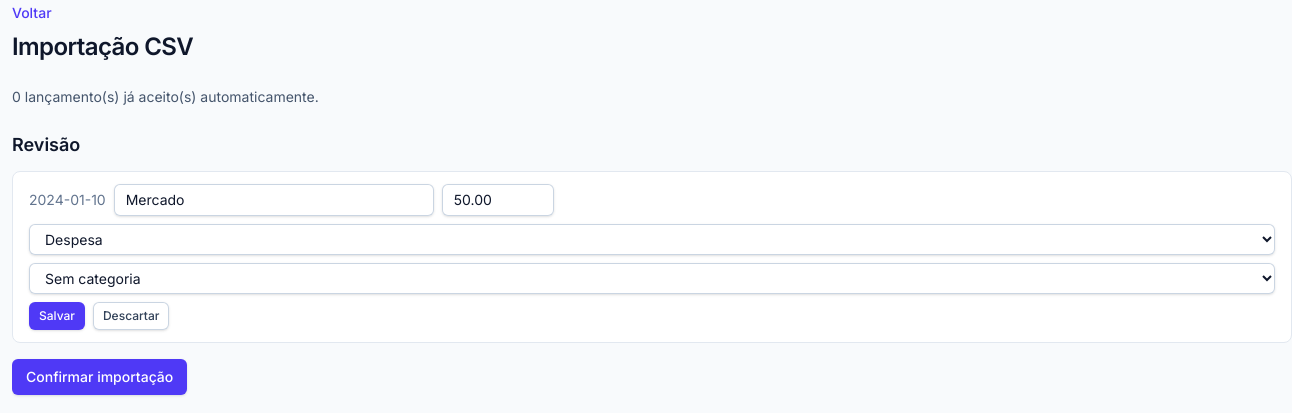
Test: ImportBatchDetailPage › shows pending rows for a staged batch, edits and confirms
Replace the text in the field named "Descrição de Mercado" with "Mercado Central" at (274, 200), box [114,184,434,216]
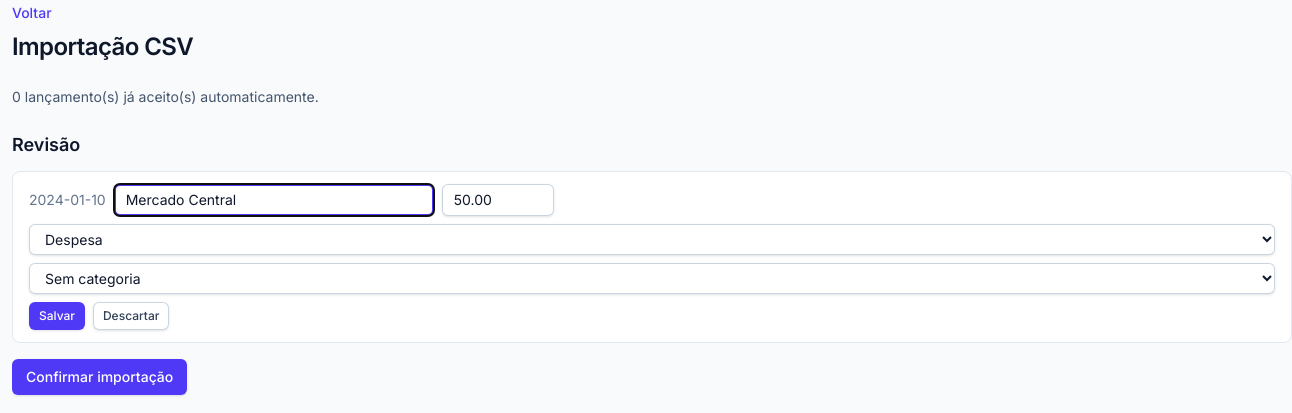
Click the button "Salvar" at (57, 316), box [29,302,85,330]
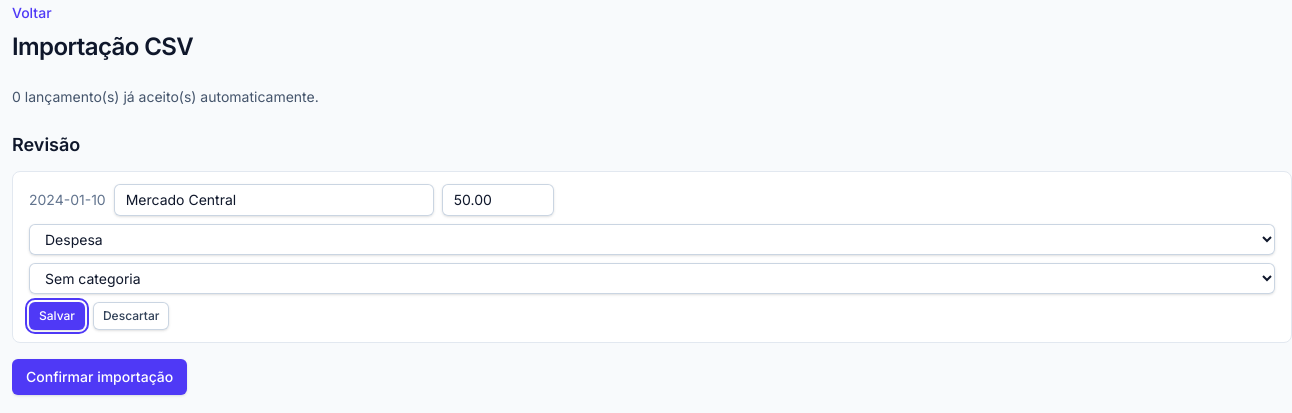
Click the button "Confirmar importação" at (100, 377), box [12,359,187,395]
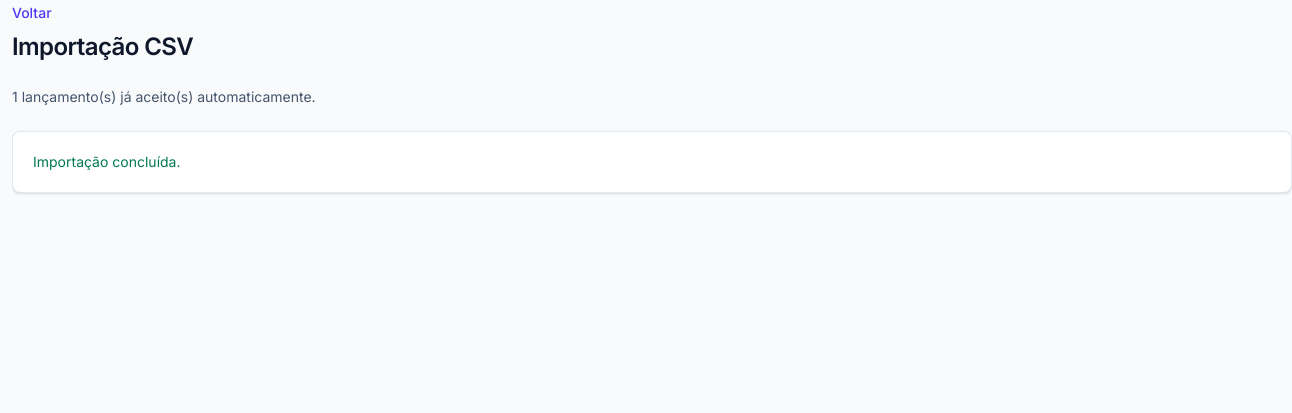
Expected: the text "Importação concluída." is shown, [33,153,180,170]
